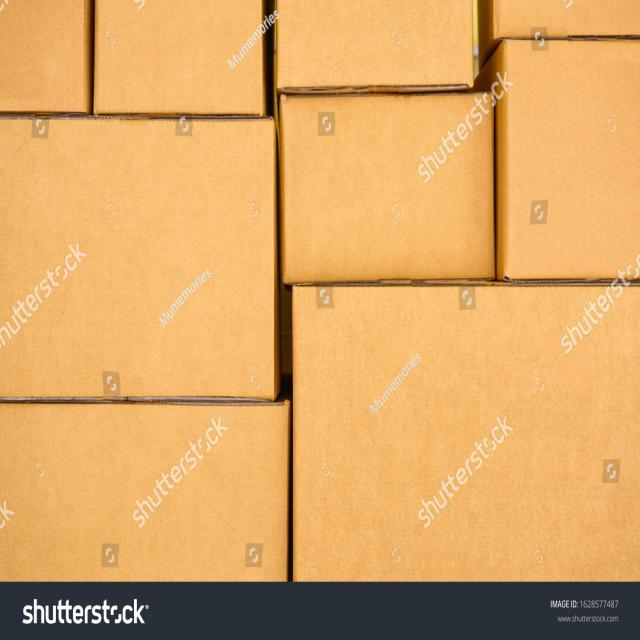BoxFace: (293, 284, 640, 583), (0, 116, 277, 402), (3, 398, 289, 579), (282, 93, 496, 282), (499, 39, 640, 282), (93, 0, 264, 119), (277, 0, 474, 95), (0, 0, 88, 117)
